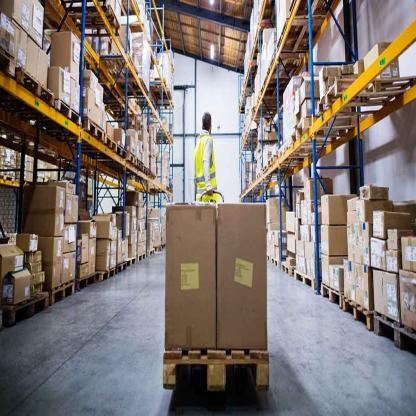BoxFace: (161, 349, 270, 392), (341, 299, 374, 333), (50, 282, 76, 308), (320, 285, 343, 309)
